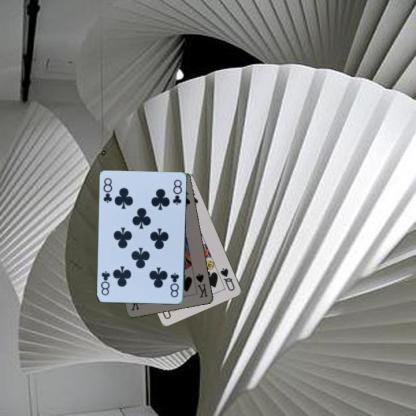8c: (100, 176, 114, 204), (168, 270, 180, 299)
Ks: (194, 270, 210, 300)
Qs: (218, 265, 236, 292)
